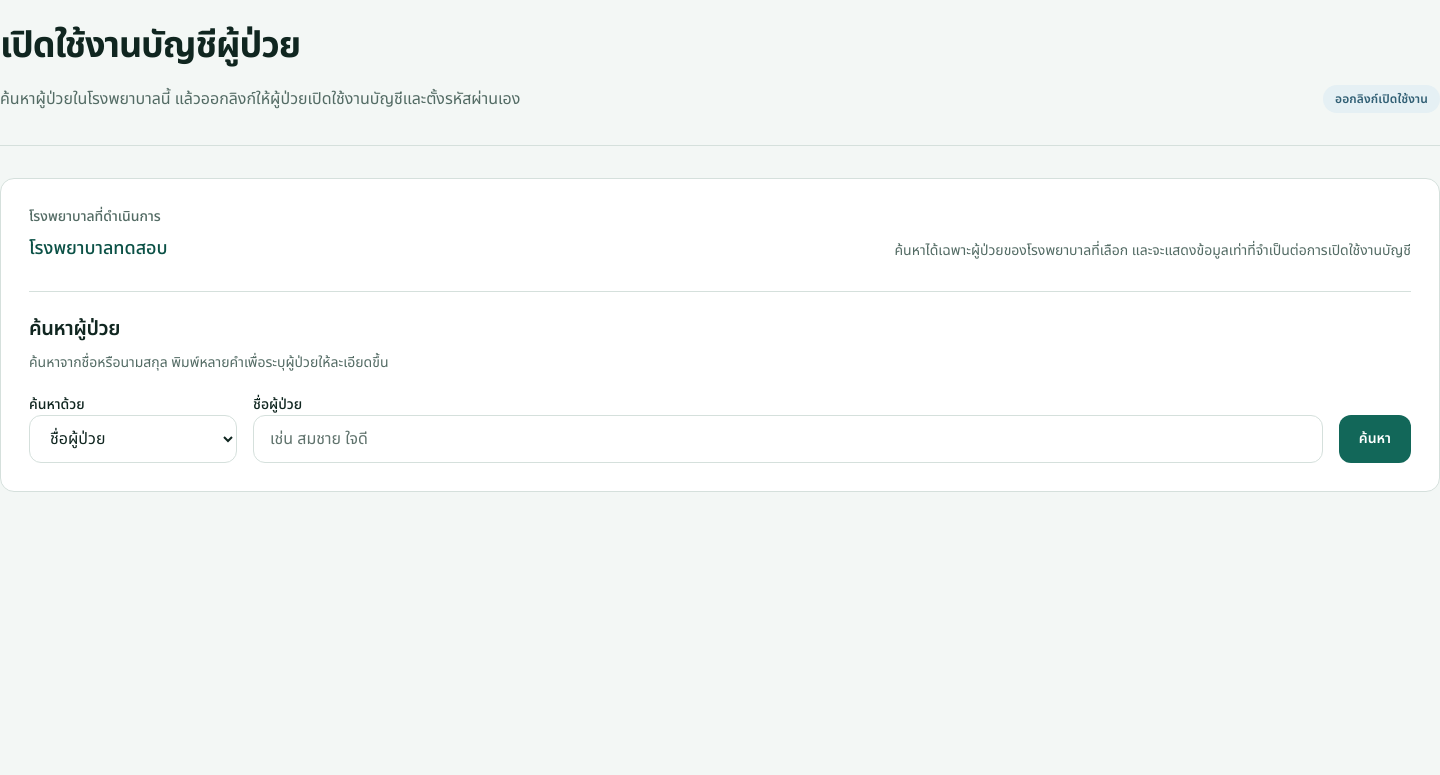
Scenario: Patient activation search and link issuance › does not offer another link issue after an unconfirmed issue request
Type "สมชาย" into the field named "value".
click(788, 439); type("สมชาย")  # box [253,415,1323,463]
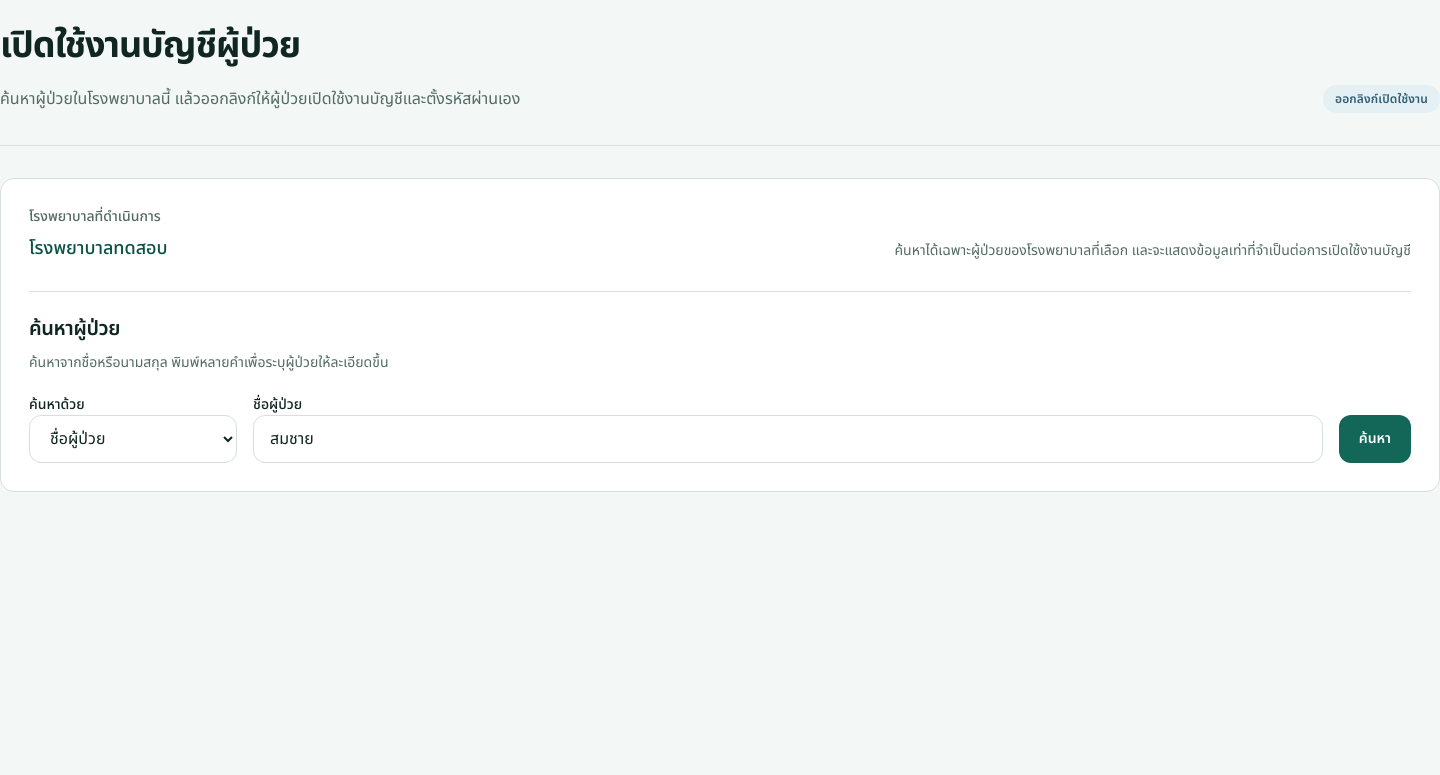
Click the button "ค้นหา".
click(1375, 439)  # box [1339,415,1411,463]
(page scrolled)
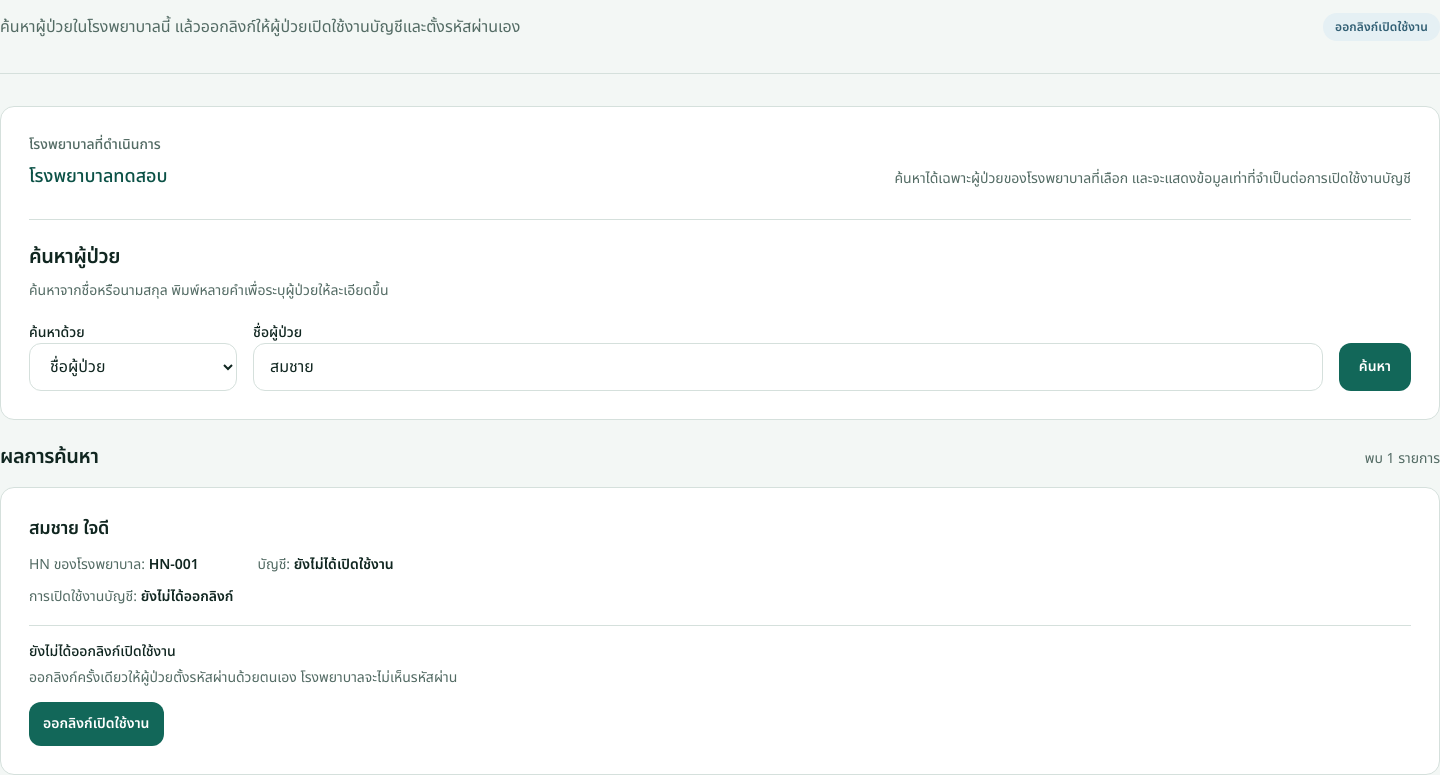
Click the submit button.
click(96, 724)  # box [29,702,164,746]
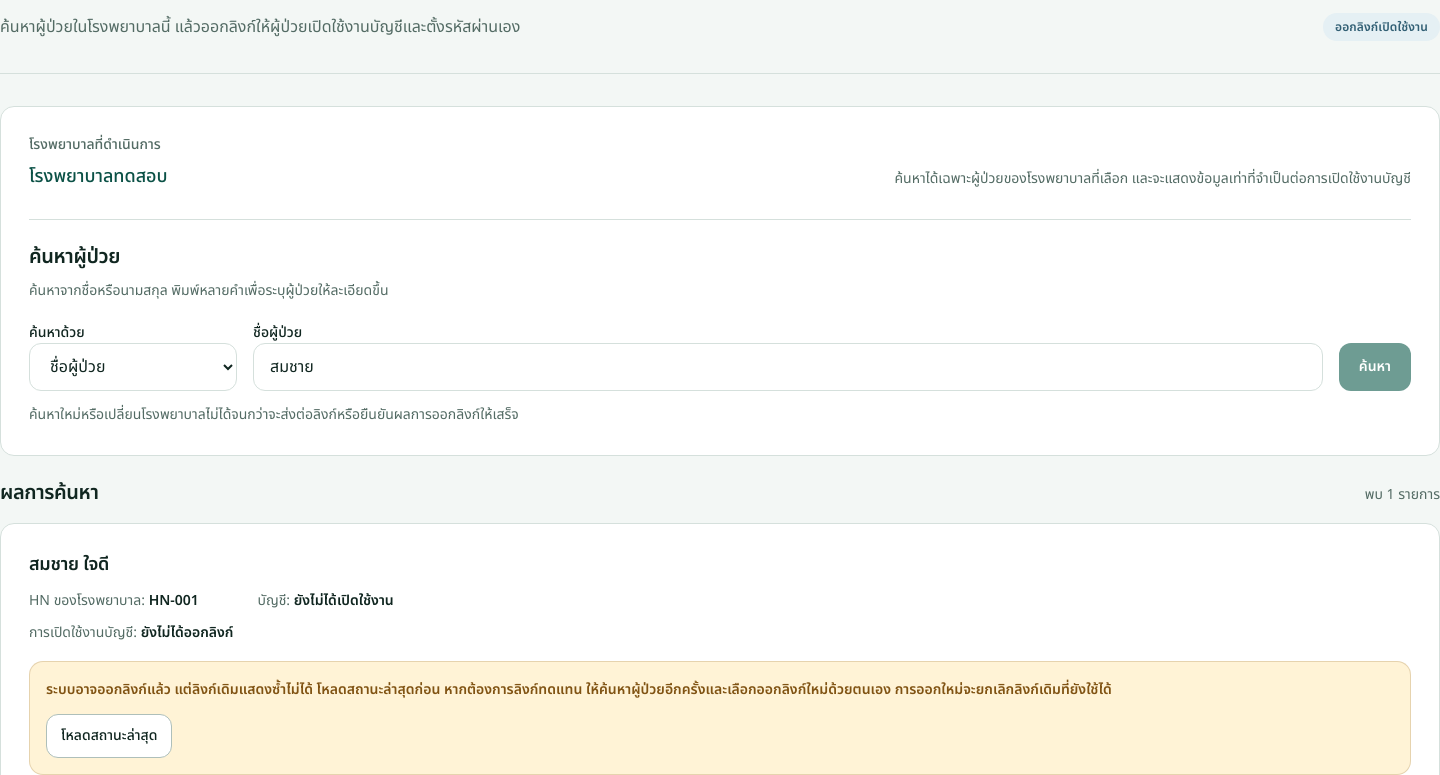
Expected: the 2nd message shows "ระบบอาจออกลิงก์แล้ว", [46,679,1112,700]
Expected: the 2nd message shows "ลิงก์เดิมแสดงซ้ำไม่ได้", [46,679,1112,700]
